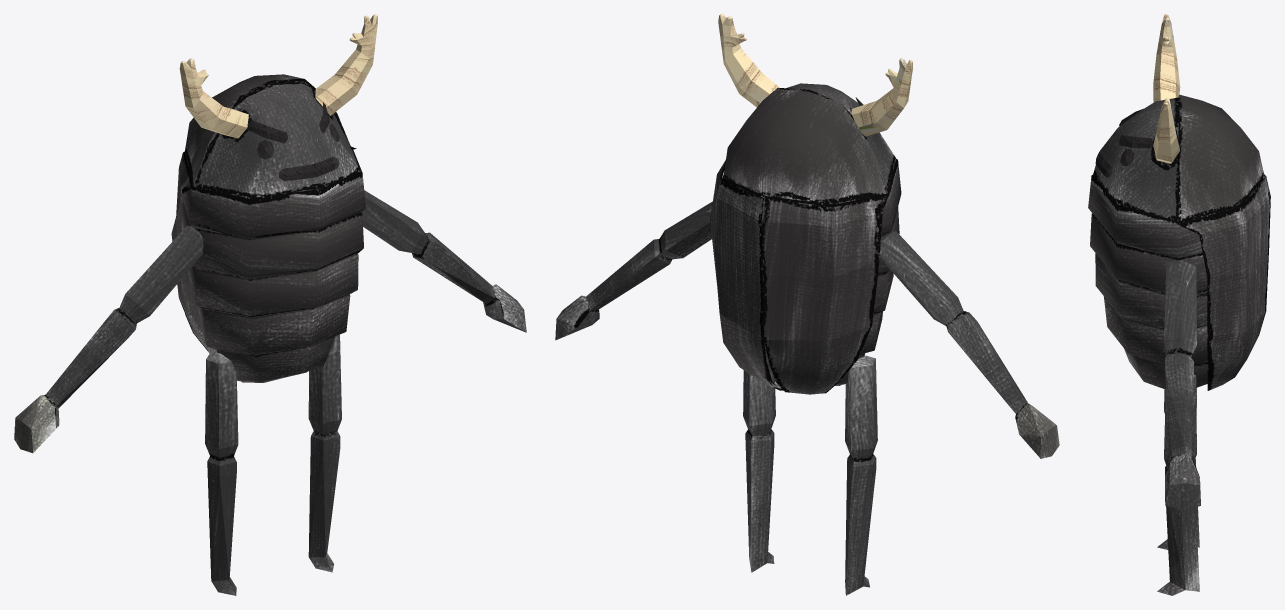
The model's file is scarab2.glb.
The picture shows the model from 3 angles, left to right: view 1: azimuth 30°, elevation 25°; view 2: azimuth 150°, elevation 25°; view 3: azimuth 270°, elevation 25°; orthographic projection. The views are drawn at different scales.
Visible parts, largest first — view 1: mesh_id33; view 2: mesh_id33; view 3: mesh_id33.
Boxes of the visible parts, x1=… form: mesh_id33: x1=14, y1=14, x2=526, y2=595; mesh_id33: x1=555, y1=14, x2=1059, y2=595; mesh_id33: x1=1088, y1=14, x2=1270, y2=595.
Bounding box in the file's own units: 0.4916 × 0.512 × 0.1658.
Materials: 1 (1 with a texture image).
